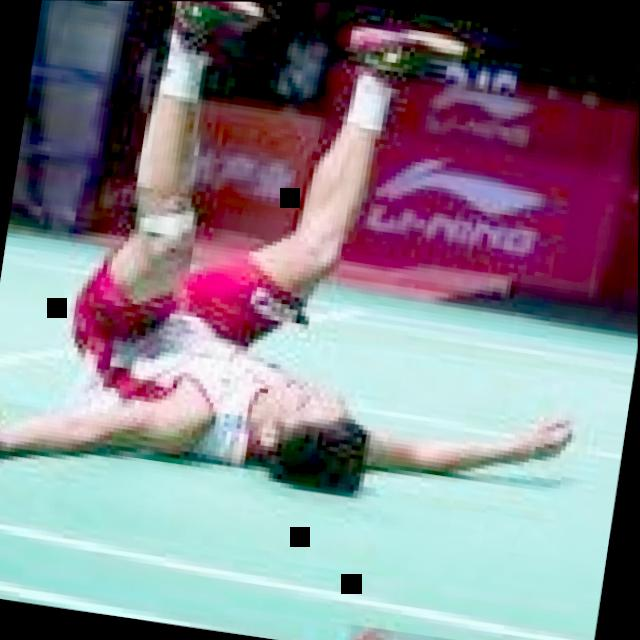Fall-Detected: (0, 0, 640, 530)
